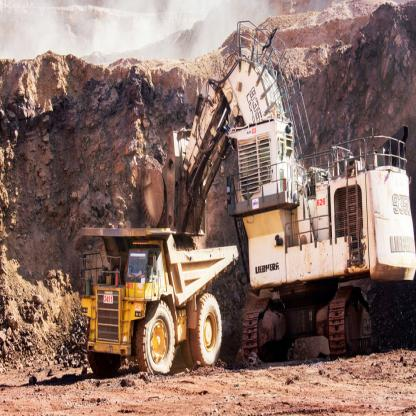dump_truck: (67, 224, 240, 394)
excavator: (132, 12, 416, 364)
